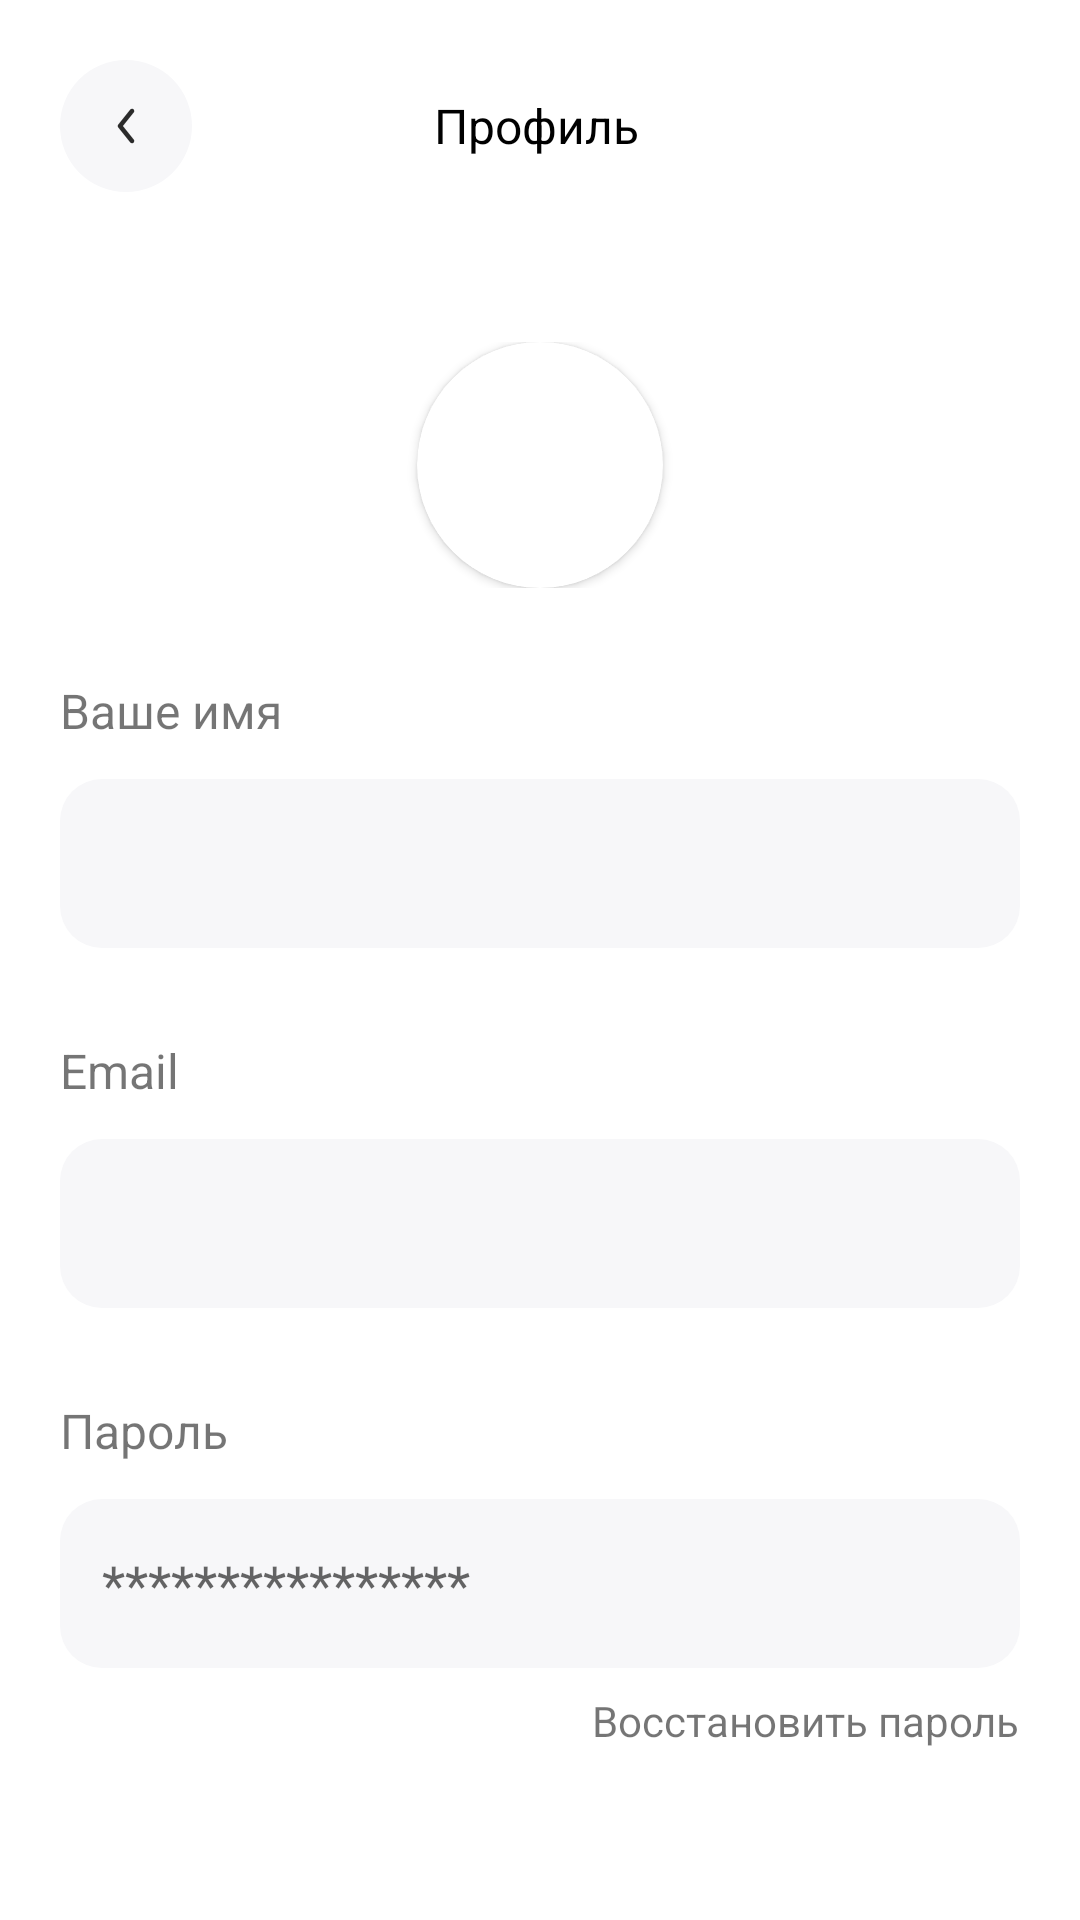

Screen size 1080×1920. Icon name, then its center in pixels as (x=x, y=y):
back: (x=126, y=126)
